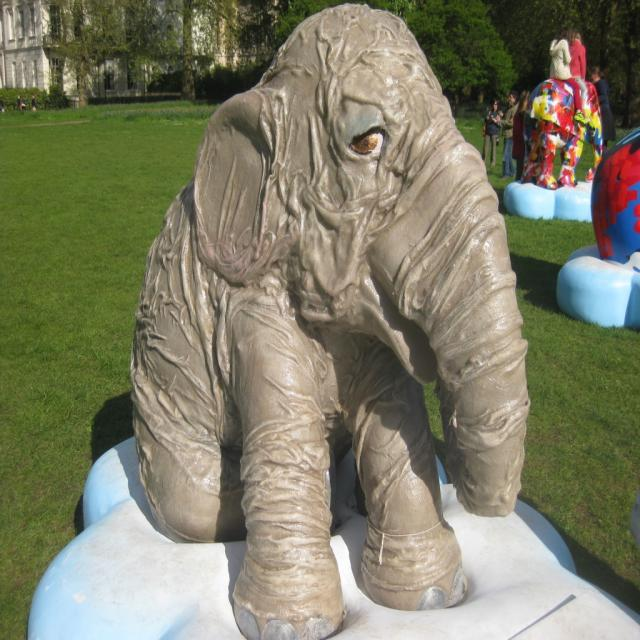elephant: (70, 2, 546, 624)
